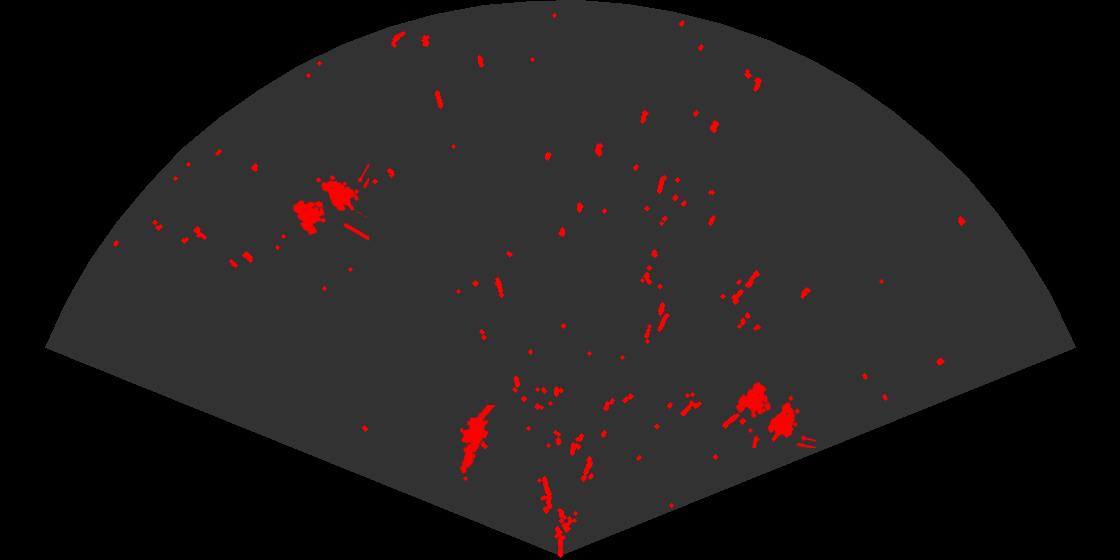cage: (291, 162, 369, 242), (734, 381, 816, 448)
frogman: (458, 405, 497, 475)
